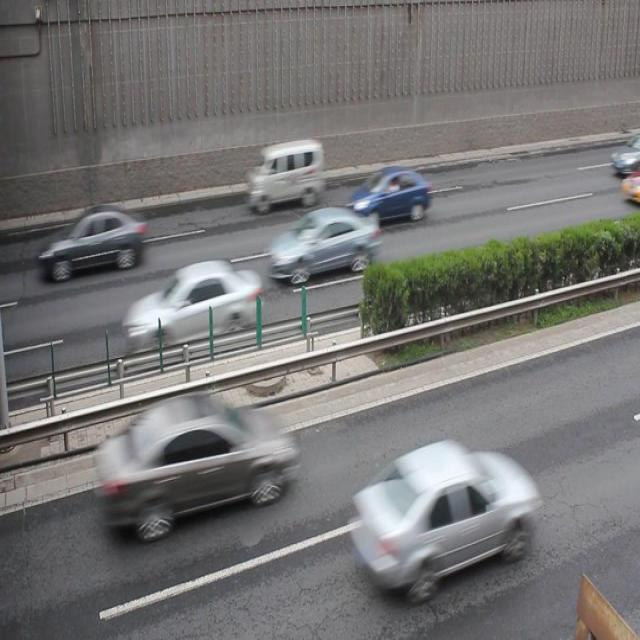car: (348, 443, 532, 600), (99, 393, 289, 537), (124, 260, 260, 352), (268, 209, 376, 282), (42, 206, 142, 280), (348, 166, 429, 225), (608, 138, 640, 179)
truck: (248, 139, 320, 211)
